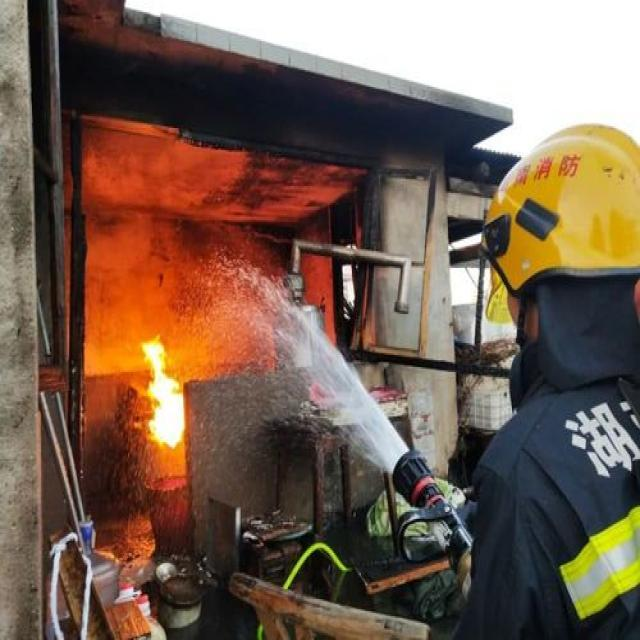Fire: (140, 334, 186, 449)
